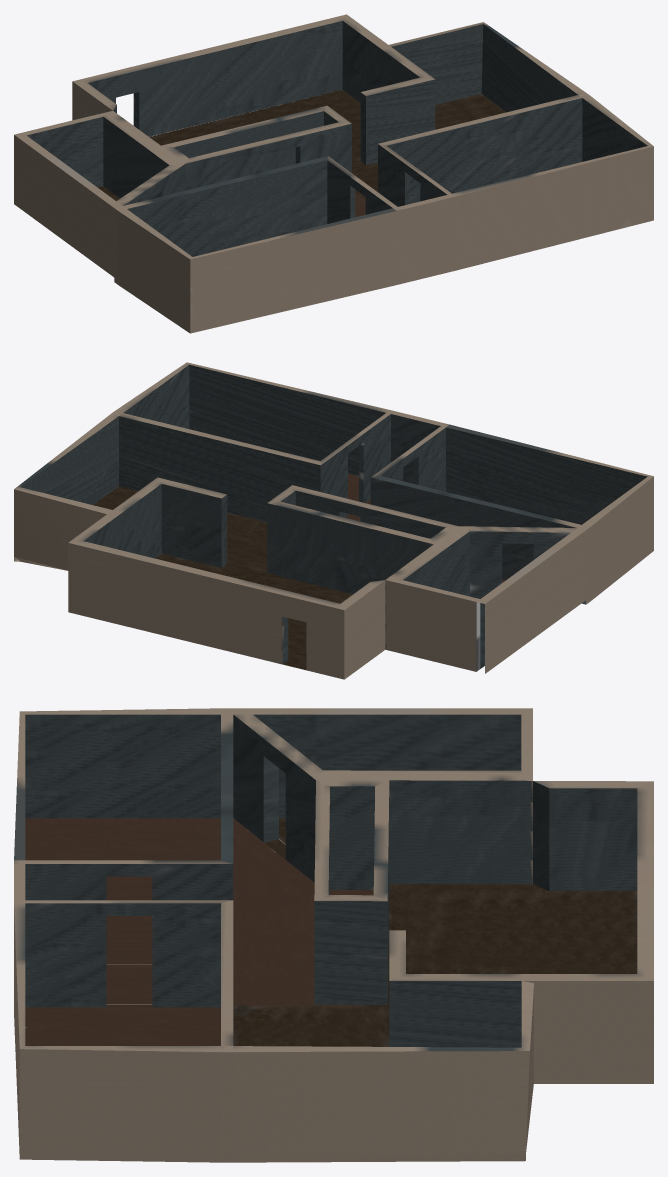
The model's file is House.fbx.
The picture shows the model from 3 angles, top to bottom: view 1: azimuth 30°, elevation 25°; view 2: azimuth 150°, elevation 25°; view 3: azimuth 270°, elevation 25°; orthographic projection. The views are drawn at different scales.
Visible parts, largest first — view 1: _House; view 2: _House; view 3: _House.
Boxes of the visible parts, <box> form: _House: <box>14,14,653,333</box>; _House: <box>14,362,653,679</box>; _House: <box>14,708,653,1162</box>.
Size of the model in its own units: 1037 by 156 by 816.
Materials: 1 (1 with a texture image).
